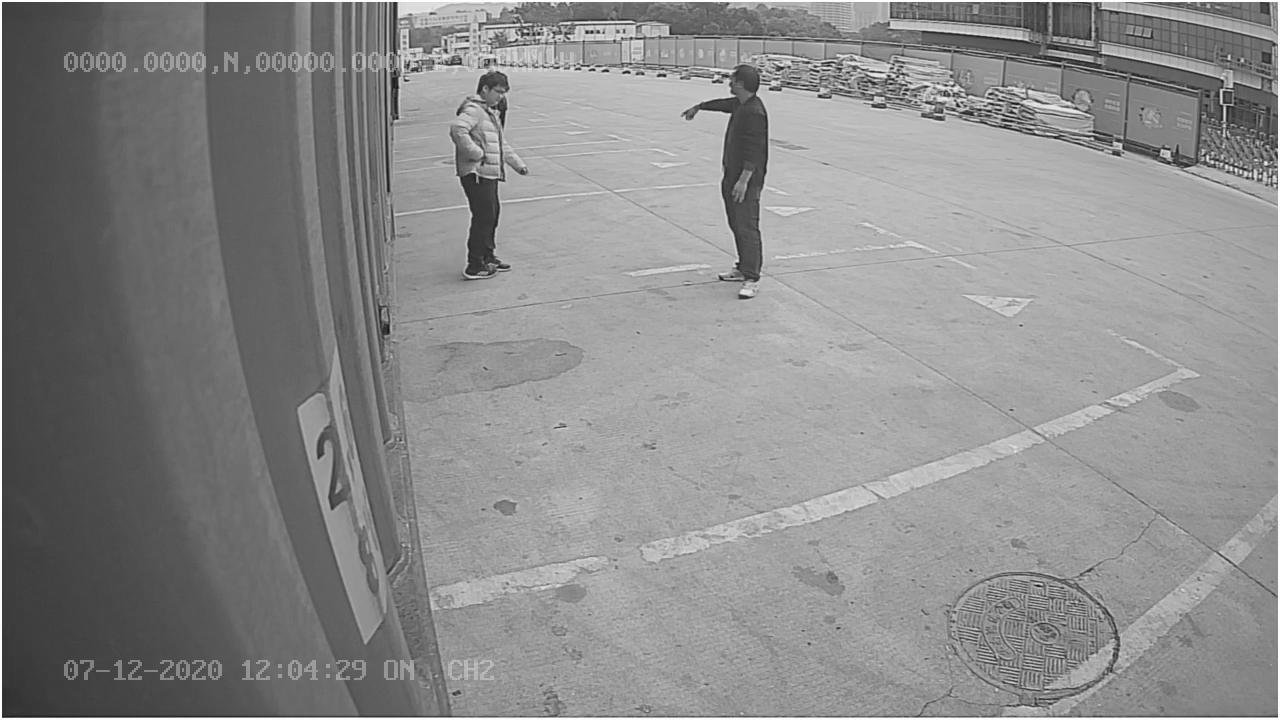person: (673, 62, 771, 303)
